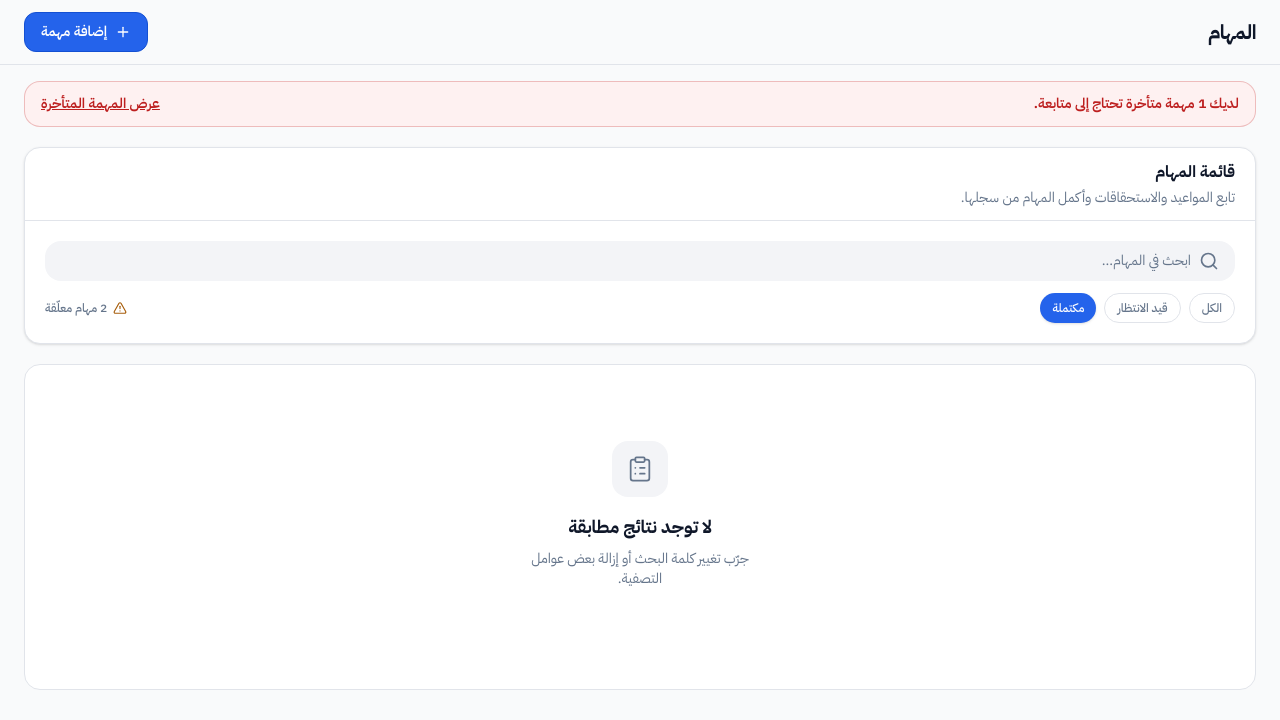
Scenario: TasksPage › shows only overdue tasks from the overdue alert
Click the button "لديك 1 مهمة متأخرة تحتاج إلى متابعة. عرض المهمة المتأخرة": coordinates (1223, 104) [24, 81, 1256, 127]
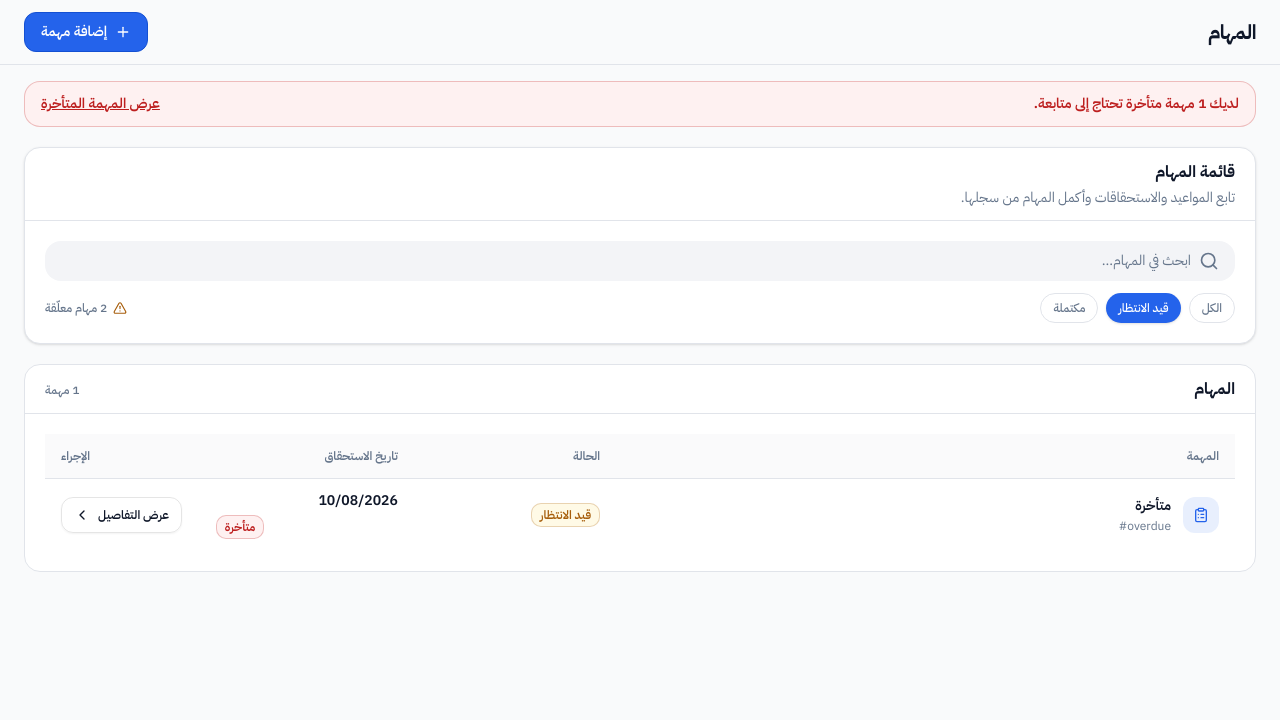
Now the 1st text "متأخرة" is shown, box [1135, 494, 1171, 516]
